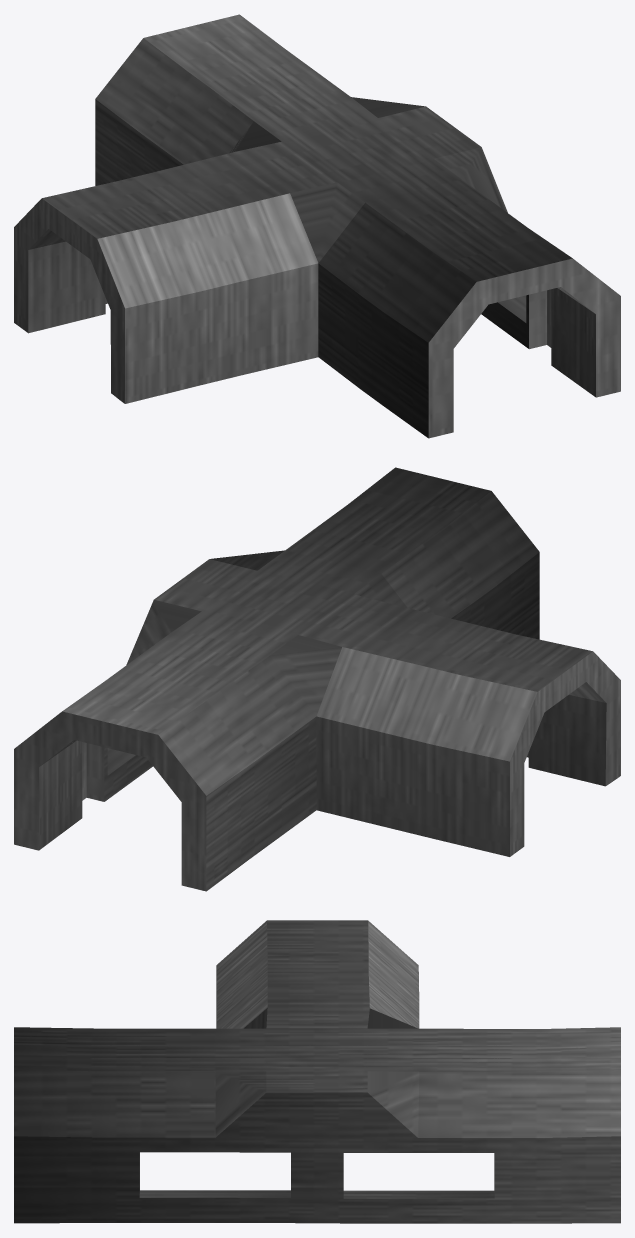
The model's file is Hallway_T_Piece 2 Windows 1.fbx.
The picture shows the model from 3 angles, top to bottom: view 1: azimuth 30°, elevation 25°; view 2: azimuth 150°, elevation 25°; view 3: azimuth 270°, elevation 25°; orthographic projection. The views are drawn at different scales.
Parts seen in each view (by area): view 1: HallwayTPiece; view 2: HallwayTPiece; view 3: HallwayTPiece.
Part boxes in pixels (x1,y1,x2,y2): HallwayTPiece: (14, 14, 620, 438); HallwayTPiece: (14, 467, 620, 891); HallwayTPiece: (14, 920, 620, 1223).
Size of the model in its own units: 801 by 288 by 1200.
1 material, 1 textured.
